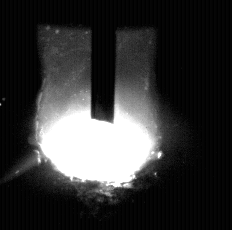arame: (91, 0, 116, 124)
poca: (37, 0, 155, 230)
